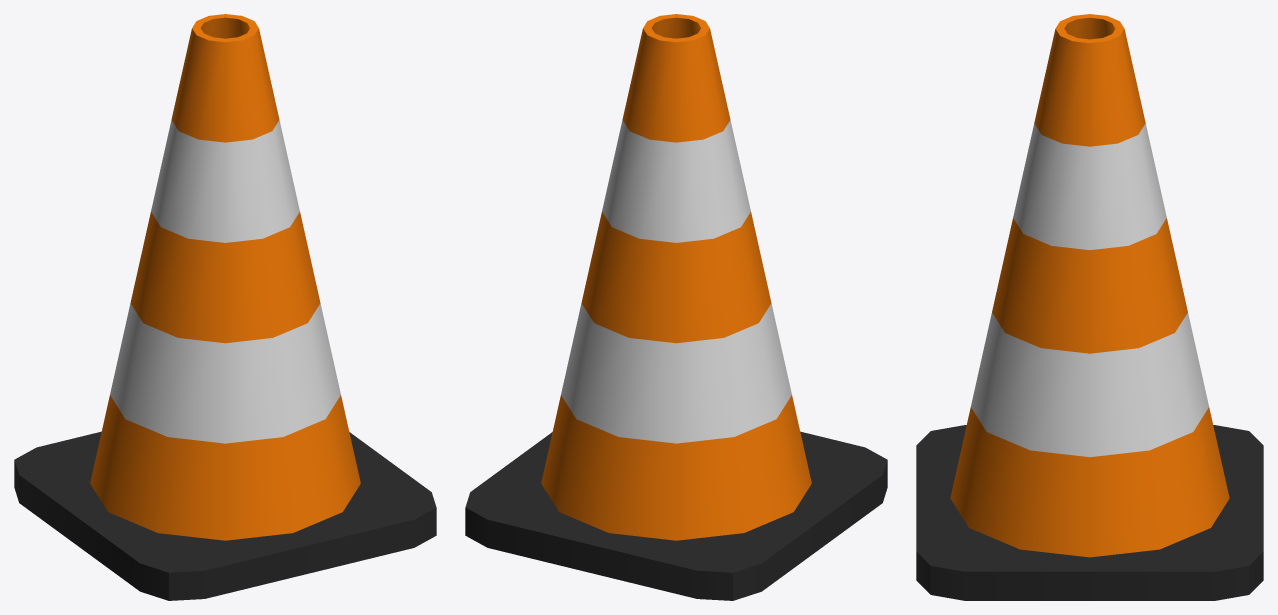
The model's file is SM_FloorProps_02.fbx.
3 renders of one model, left to right at view 1: azimuth 30°, elevation 25°; view 2: azimuth 150°, elevation 25°; view 3: azimuth 270°, elevation 25°, orthographic. The views are drawn at different scales.
Visible parts, largest first — view 1: SM_FloorProps_02; view 2: SM_FloorProps_02; view 3: SM_FloorProps_02.
Boxes of the visible parts, <box> form: SM_FloorProps_02: <box>14,14,436,600</box>; SM_FloorProps_02: <box>465,14,887,600</box>; SM_FloorProps_02: <box>916,14,1263,600</box>.
Bounding box in the file's own units: 0.269 × 0.4263 × 0.269.
